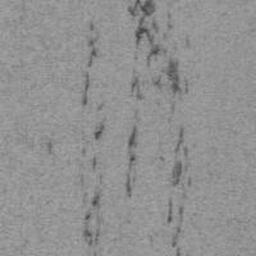Inclusion: (127, 0, 189, 116), (82, 20, 106, 141), (159, 127, 193, 188), (81, 187, 104, 248), (124, 124, 138, 200), (168, 198, 186, 256), (81, 147, 97, 172), (184, 35, 191, 49), (47, 142, 54, 155)
